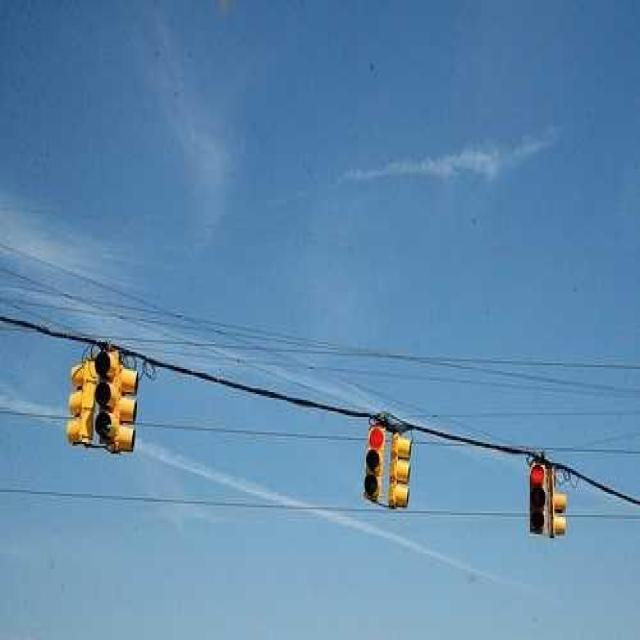Traffic Light -Red-: (360, 417, 388, 506), (526, 456, 550, 538)
